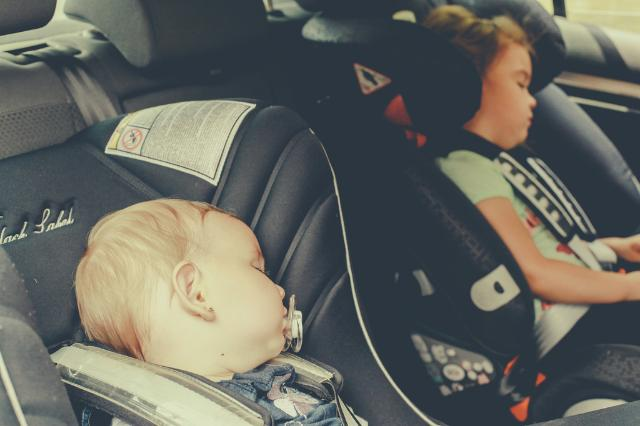Seatbelt: (46, 350, 272, 426), (22, 53, 120, 129)
